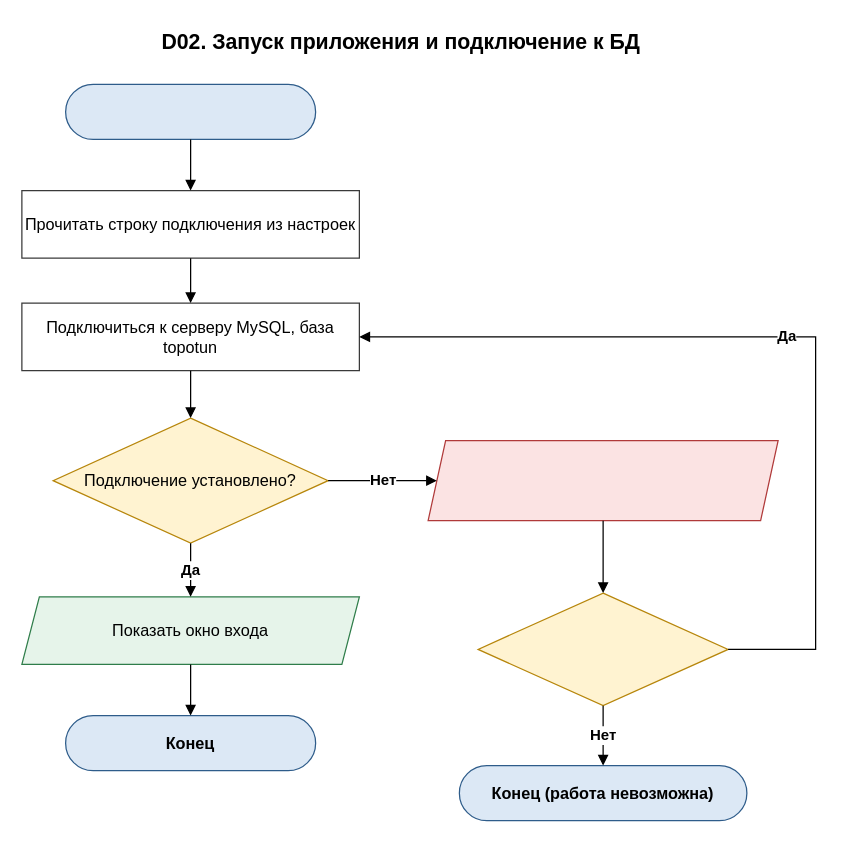
The diagram is 848 pixels wide and 843 high, and some of its shapes have lost their labels. The centre of each missing label's shape, as x and y in pixels:
Начало: point 190,111
Повторить попытку?: point 602,649
Сообщение: «Нет связи с БД. Проверьте, запущен ли сервер»: point 602,480
